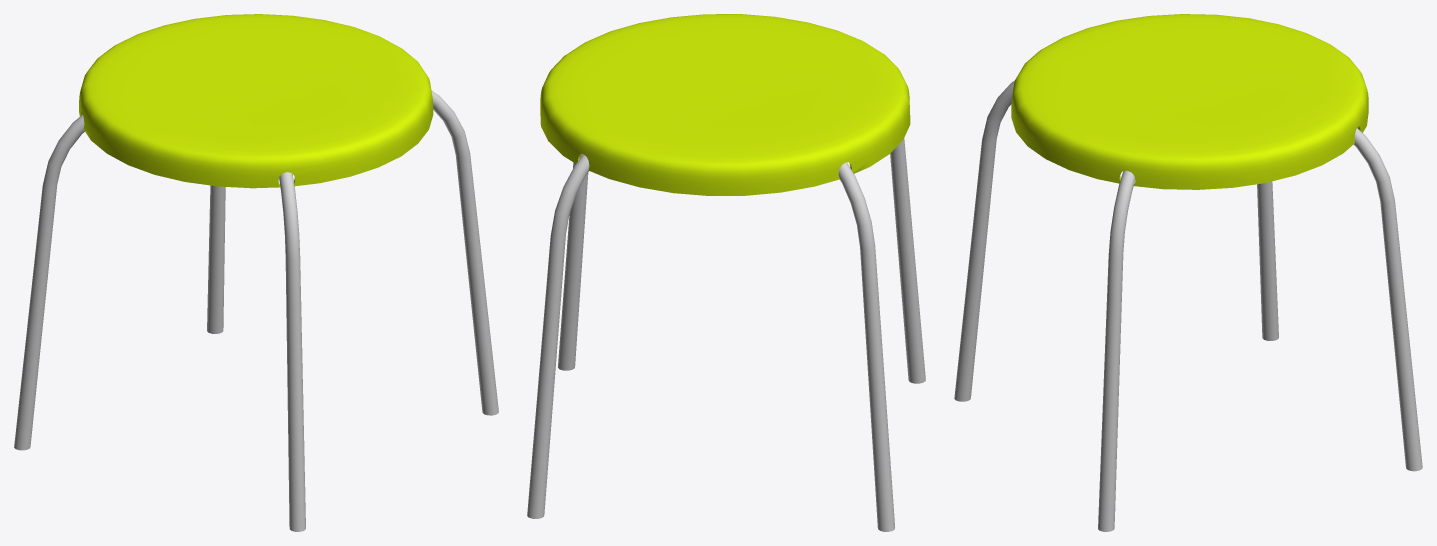
Rendered from ikea_stool.gltf.
3 renders of one model, left to right at view 1: azimuth 30°, elevation 25°; view 2: azimuth 150°, elevation 25°; view 3: azimuth 270°, elevation 25°, orthographic. The views are drawn at different scales.
Visible parts, largest first — view 1: IKEA-Forsby_Small_Stool-3D; view 2: IKEA-Forsby_Small_Stool-3D; view 3: IKEA-Forsby_Small_Stool-3D.
Part boxes in pixels (x1,y1,x2,y2): IKEA-Forsby_Small_Stool-3D: (14,14,498,531); IKEA-Forsby_Small_Stool-3D: (527,14,925,531); IKEA-Forsby_Small_Stool-3D: (954,14,1422,531).
Size of the model in its own units: 1.84 by 1.51 by 1.84.
